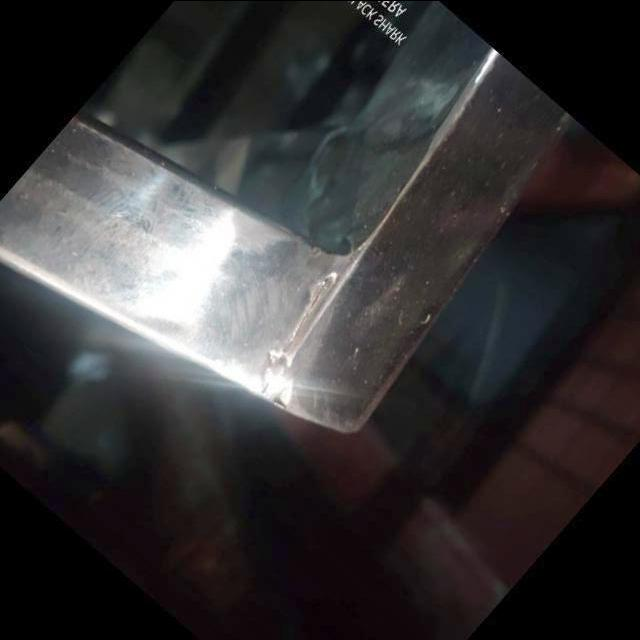defect: (283, 271, 333, 354)
